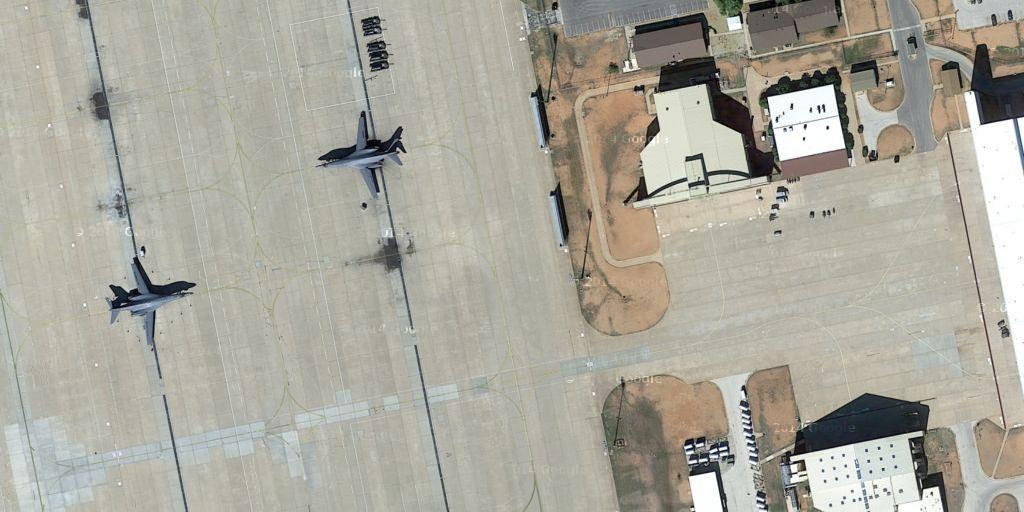B-1B: (308, 108, 413, 199), (100, 260, 200, 346)
